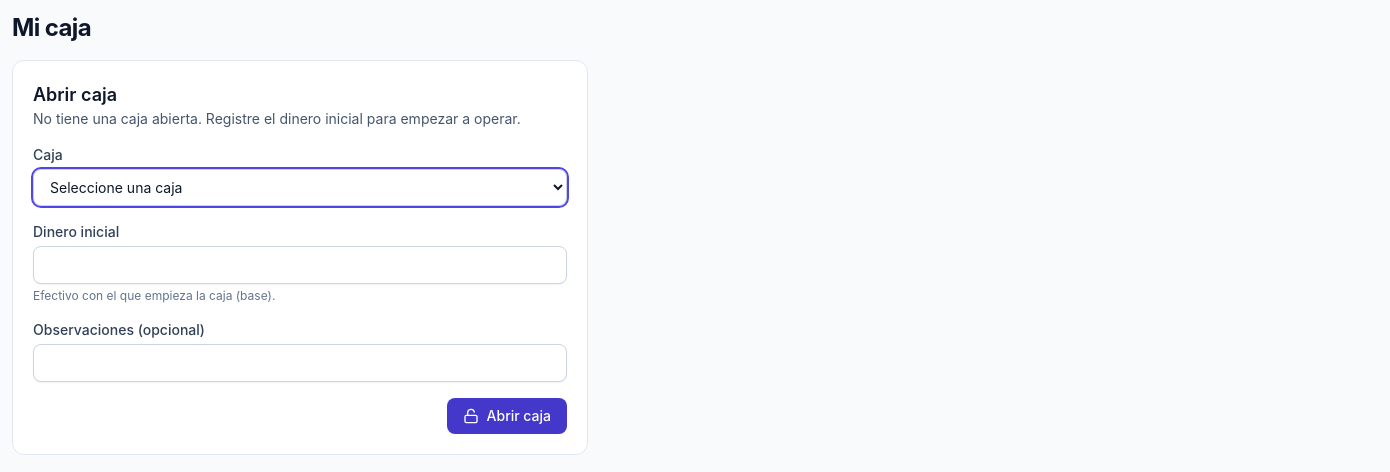
Test case: MyCashPage › opens a free register when the user has no session
This screenshot has width=1390, height=472.
Select "Caja Principal" in the dropdown labelled "Caja" at (300, 188), box left=33, top=169, right=567, bottom=206
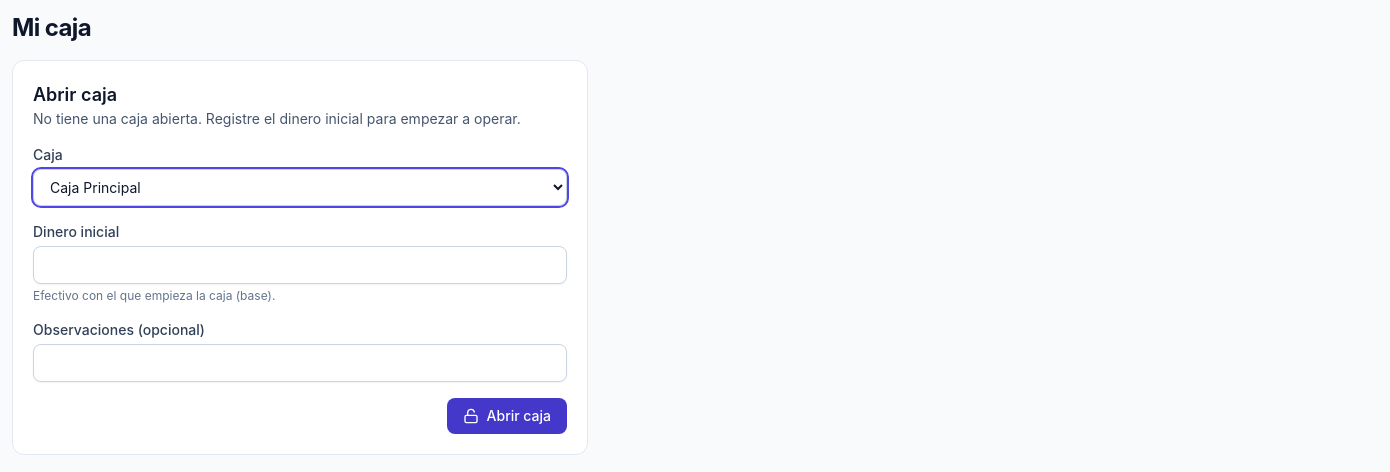
Type "100000,50" into the field labelled "Dinero inicial" at (300, 265), box left=33, top=246, right=567, bottom=284
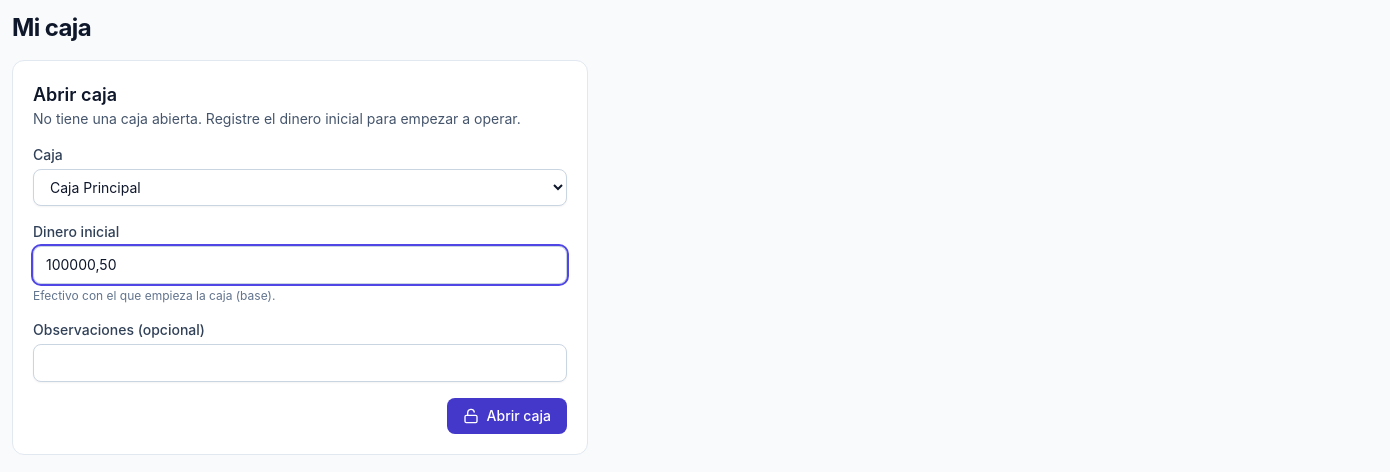
Click the button "Abrir caja" at (507, 416), box left=447, top=398, right=567, bottom=434
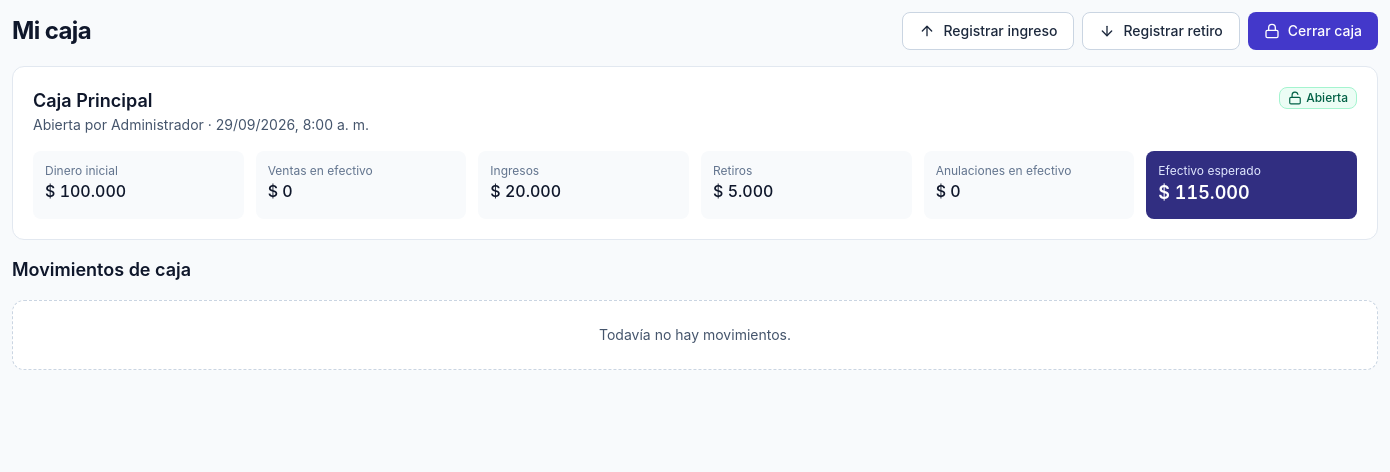
Expected: the text "Efectivo esperado" is shown, left=1158, top=163, right=1261, bottom=178
